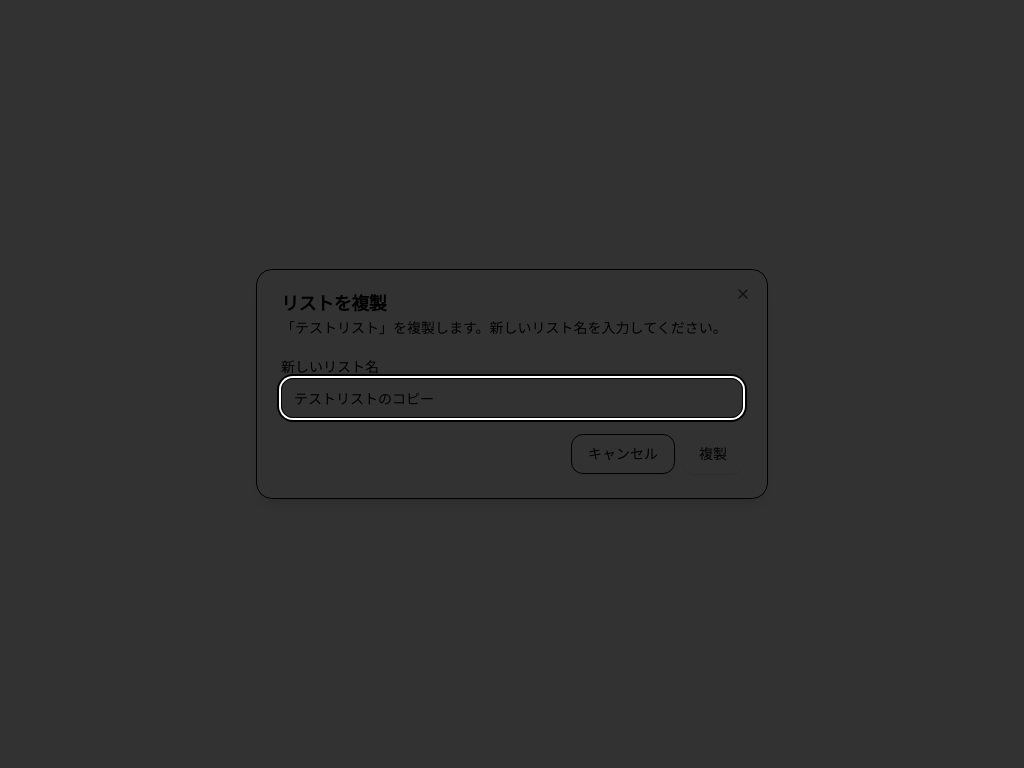
Test: ListDuplicateDialog › 複製機能 › エラーがError型でない場合、デフォルトエラーメッセージが表示される
Replace the text in the field labelled "新しいリスト名" with "新しいリスト名" at (512, 398), box top-left (281, 378), bottom-right (743, 418)
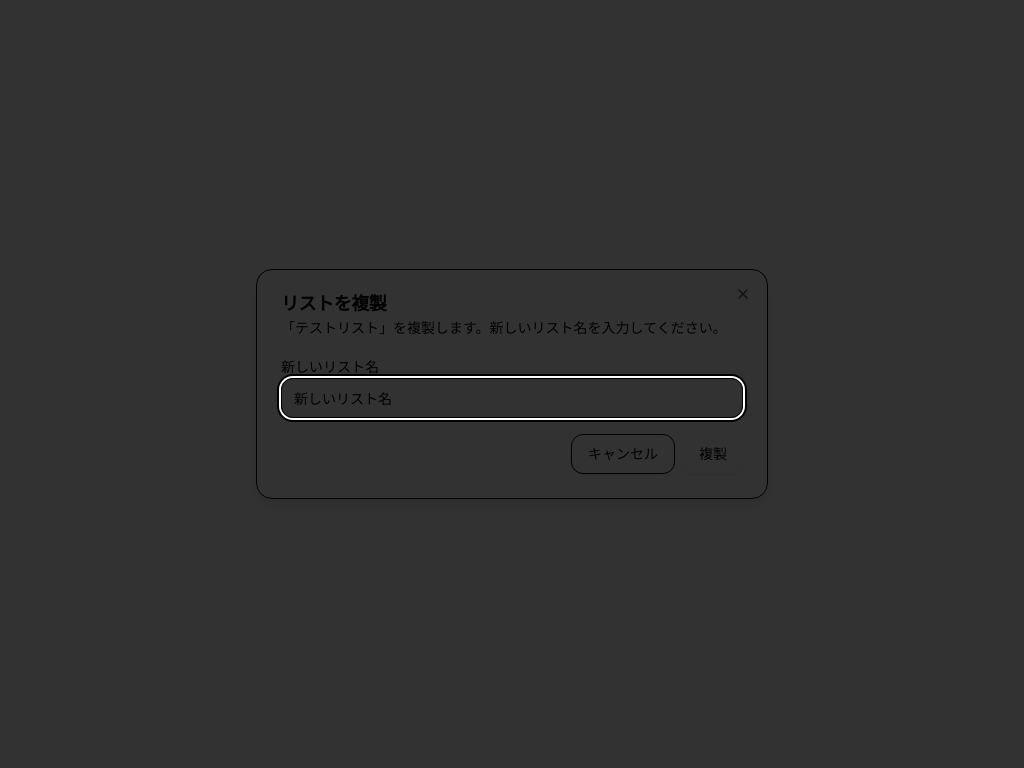
Click the button "複製".
click(713, 454)  # box top-left (683, 434), bottom-right (743, 474)
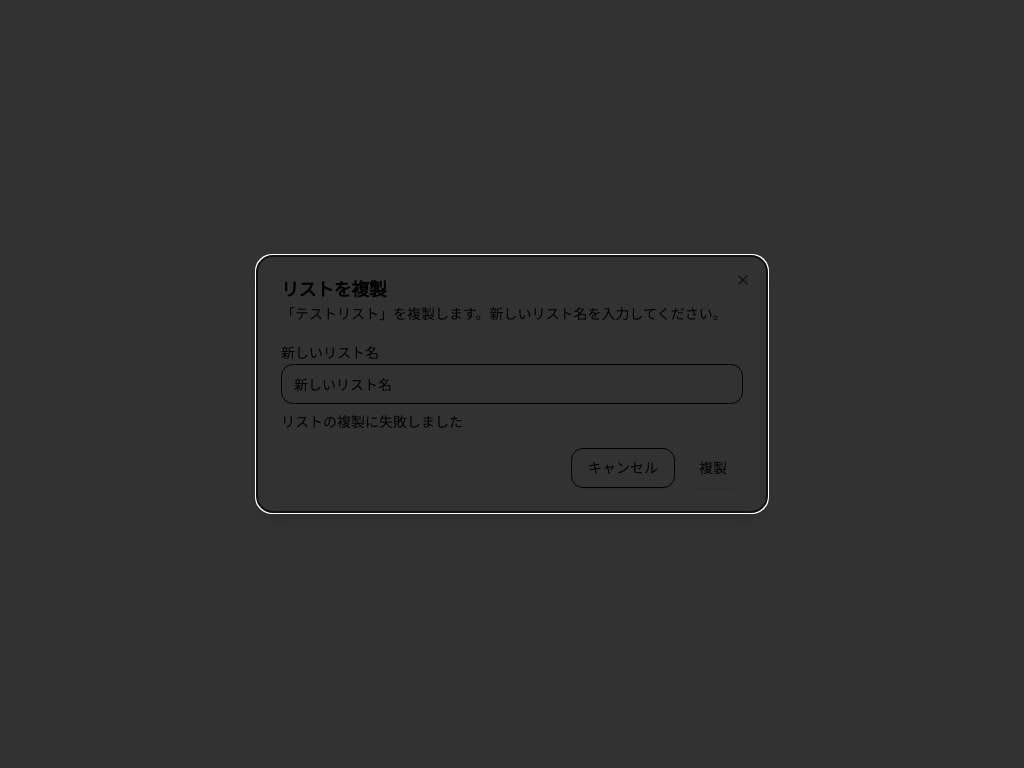
Expected: the text "リストの複製に失敗しました" is shown, top-left (281, 412), bottom-right (463, 431)
